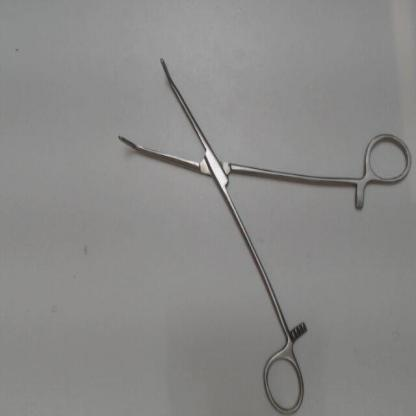Lahey Forceps: (112, 44, 414, 414)
